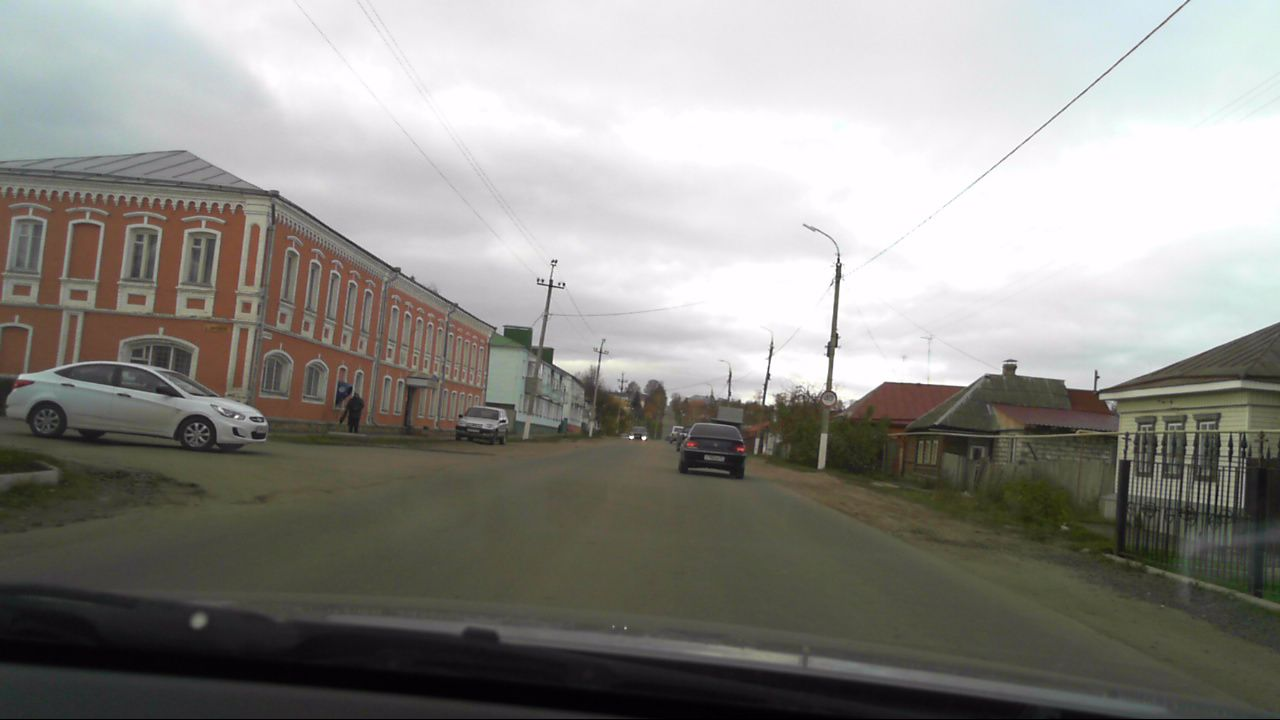speed_warning_40: (820, 390, 837, 407)
